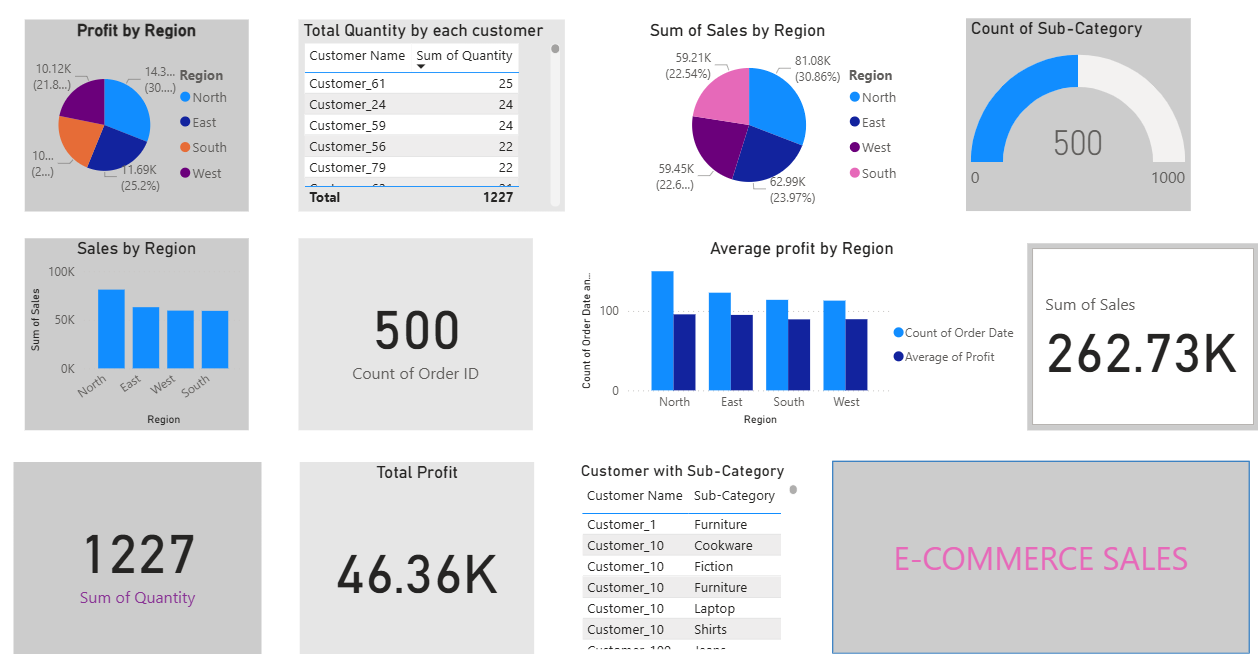

The dashboard page shown, as its layout file describes it:
{"tool":"powerbi","page":{"name":"Page 1","canvas":[1280,720],"ordinal":0},"visuals":[{"type":"pieChart","title":"Profit  by Region","fields":{"Category":["Sheet1.Region"],"Y":["Sum(Sheet1.Profit)"]},"box":[34.3,32.9,223.7,192.1],"z":0},{"type":"clusteredColumnChart","title":"Sales by Region","fields":{"Y":["Sum(Sheet1.Sales)"],"Category":["Sheet1.Region"]},"box":[34.3,251.1,223.7,192.1],"z":1000},{"type":"card","fields":{"Values":["Sum(Sheet1.Quantity)"]},"box":[22,474.8,248.4,192.1],"z":2000},{"type":"tableEx","title":"Total Quantity by each customer","fields":{"Values":["Sheet1.Customer Name","Sum(Sheet1.Quantity)"]},"box":[307.4,32.9,266.2,192.1],"z":3000},{"type":"pieChart","fields":{"Y":["Sum(Sheet1.Sales)"],"Category":["Sheet1.Region"]},"box":[653.2,32.9,273.1,192.1],"z":4000},{"type":"card","fields":{"Values":["CountNonNull(Sheet1.Order ID)"]},"box":[307.4,251.1,234.6,192.1],"z":5000},{"type":"card","title":"Total Profit","fields":{"Values":["Sum(Sheet1.Profit)"]},"box":[308.7,474.8,234.6,192.1],"z":6000},{"type":"clusteredColumnChart","title":"Average profit by Region","fields":{"Y":["CountNonNull(Sheet1.Order Date)","Avg(Sheet1.Profit)"],"Category":["Sheet1.Region"]},"box":[584.6,251.1,451.5,192.1],"z":7000},{"type":"tableEx","title":"Customer with Sub-Category","fields":{"Values":["Sheet1.Customer Name","Sheet1.Sub-Category"]},"box":[584.6,474.8,226.4,192.1],"z":8000},{"type":"gauge","fields":{"Y":["CountNonNull(Sheet1.Sub-Category)"]},"box":[975.6,31.4,224.4,193],"z":8001},{"type":"cardVisual","fields":{"Data":["Sum(Sheet1.Sales)"]},"box":[1036,255.8,232.6,187.2],"z":8002},{"type":"shape","box":[841.9,473.3,417.4,193],"z":8003}]}

Visuals, with their boxes on the page's 1280x720 design canvas (x1, y1, x2, y2). These are canvas units, not pixel positions in the 1258x658 screenshot, which may show the page scaled, cropped or inside an application window:
"Profit  by Region" pieChart: bbox=[34, 33, 258, 225]
"Sales by Region" clusteredColumnChart: bbox=[34, 251, 258, 443]
card - Sum(Sheet1.Quantity): bbox=[22, 475, 270, 667]
"Total Quantity by each customer" tableEx: bbox=[307, 33, 574, 225]
pieChart - Sum(Sheet1.Sales) x Sheet1.Region: bbox=[653, 33, 926, 225]
card - CountNonNull(Sheet1.Order ID): bbox=[307, 251, 542, 443]
"Total Profit" card: bbox=[309, 475, 543, 667]
"Average profit by Region" clusteredColumnChart: bbox=[585, 251, 1036, 443]
"Customer with Sub-Category" tableEx: bbox=[585, 475, 811, 667]
gauge - CountNonNull(Sheet1.Sub-Category): bbox=[976, 31, 1200, 224]
cardVisual - Sum(Sheet1.Sales): bbox=[1036, 256, 1269, 443]
shape: bbox=[842, 473, 1259, 666]
